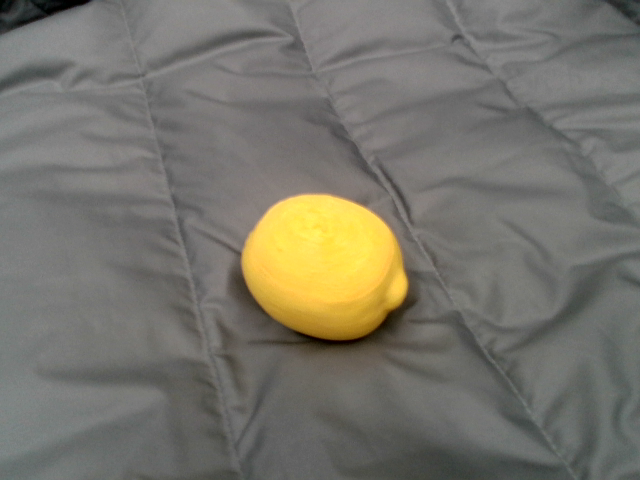lemon: (215, 158, 433, 375)
